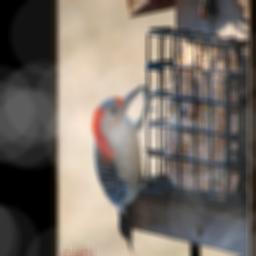Woodpecker: (92, 85, 157, 254)
